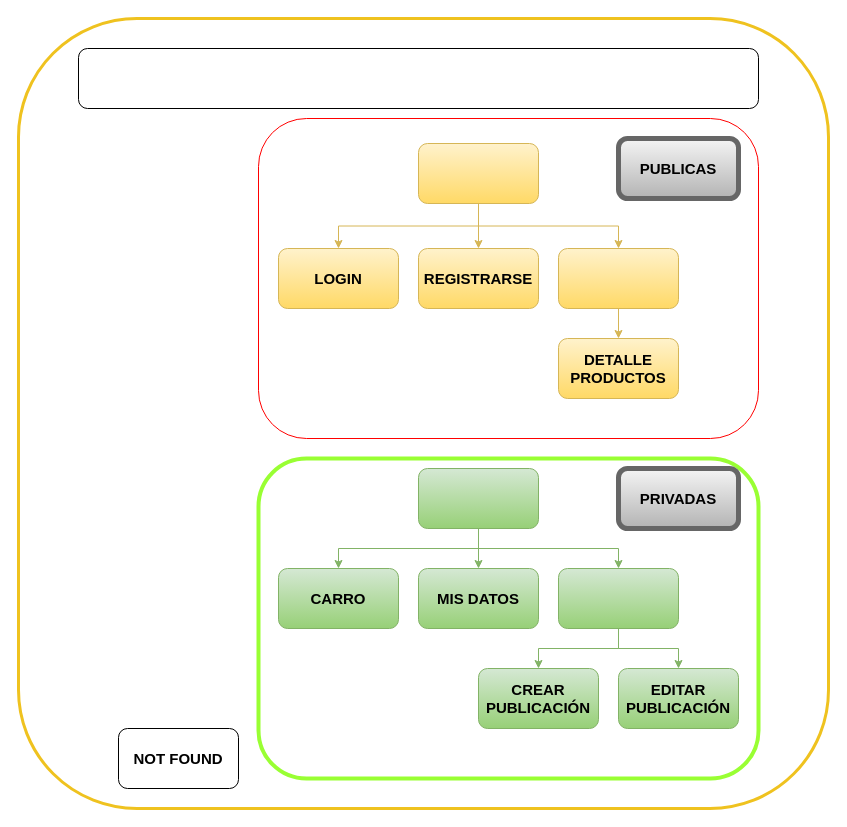
Some shapes in this 847 by 827 pixel diagram are drawn without their labels. Each missing label, with the centre of its shape:
HOME: pixel 478 173
MIS PUBLICACIONES: pixel 618 598
Navegación entre vistas: pixel 418 78
PERFIL: pixel 478 498
PRODUCTOS: pixel 618 278
